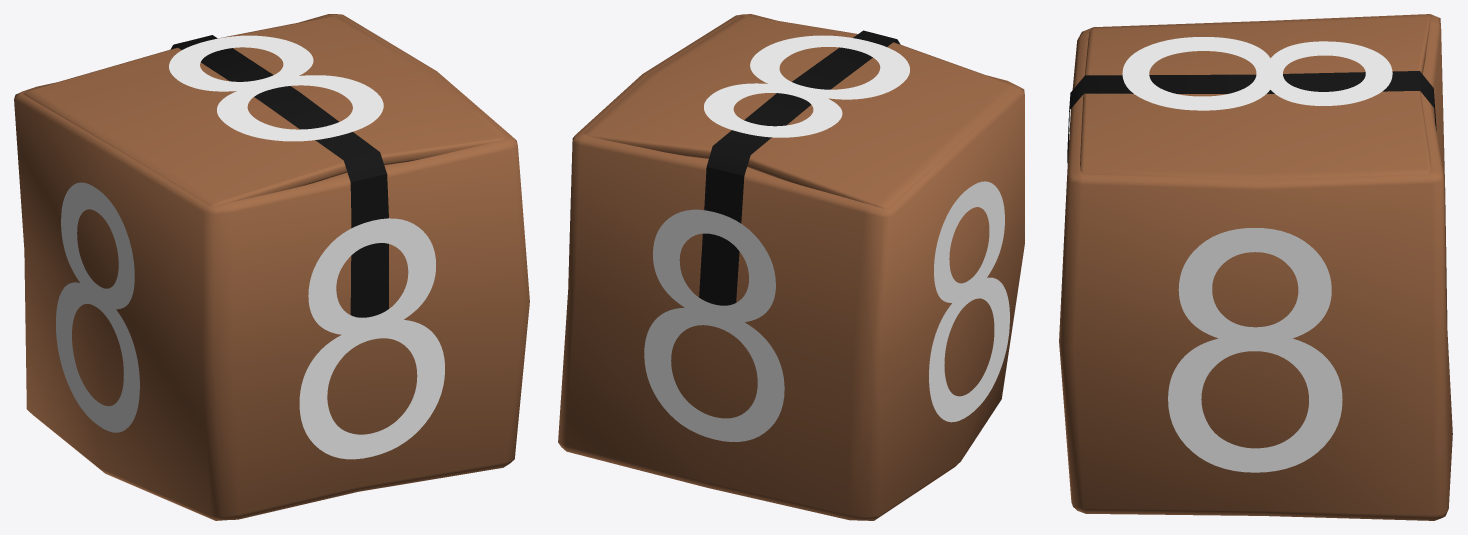
Rendered from Parcel_v1_bigboy.FBX.
3 views of the same model, side by side, from view 1: azimuth 30°, elevation 25°; view 2: azimuth 150°, elevation 25°; view 3: azimuth 270°, elevation 25° (orthographic). The views are drawn at different scales.
Parts seen in each view (by area): view 1: Box001; view 2: Box001; view 3: Box001.
Boxes of the visible parts, <box> form: Box001: <box>14,14,529,520</box>; Box001: <box>558,14,1024,520</box>; Box001: <box>1059,14,1452,520</box>.
Bounding box in the file's own units: 68.04 × 65.12 × 63.8.
